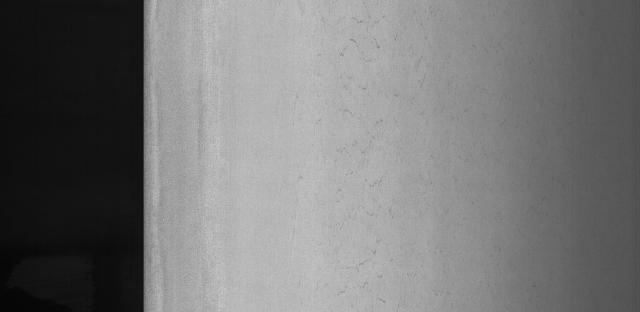silk_spot: (308, 0, 445, 297)
